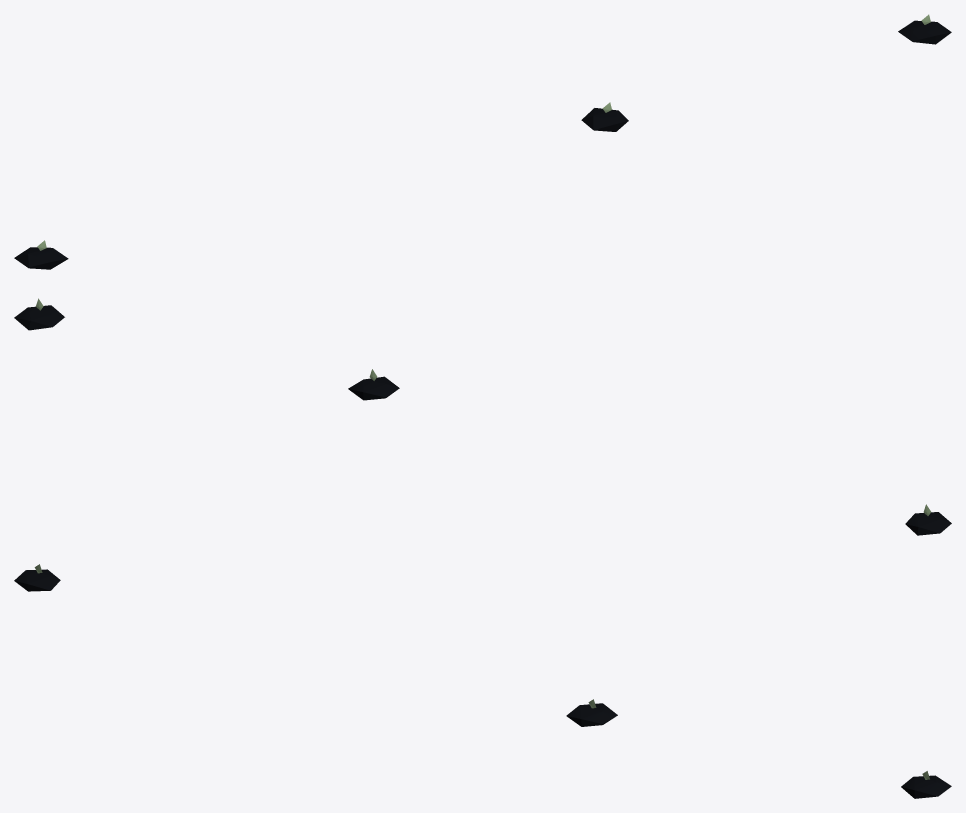
The model's file is tt_leisure_nature_mounds.glb.
3 renders of one model, top to bottom at view 1: azimuth 30°, elevation 25°; view 2: azimuth 150°, elevation 25°; view 3: azimuth 330°, elevation 25°, orthographic. The views are drawn at different scales.
Parts seen in each view (by area): view 1: RiverStone_Mound; view 2: RiverStone_Mound; view 3: RiverStone_Mound.
Part boxes in pixels (bbox=[...]): RiverStone_Mound: bbox=[14, 20, 951, 269]; RiverStone_Mound: bbox=[14, 305, 951, 535]; RiverStone_Mound: bbox=[14, 569, 951, 798].
Size of what is drawn, in the model's own units: 19.84 by 0.5206 by 1.23.
2 materials, 1 textured.
